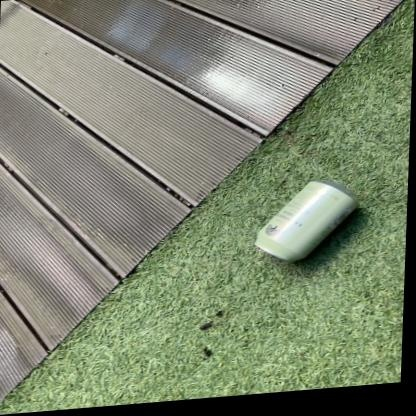trash: (255, 181, 357, 261)
